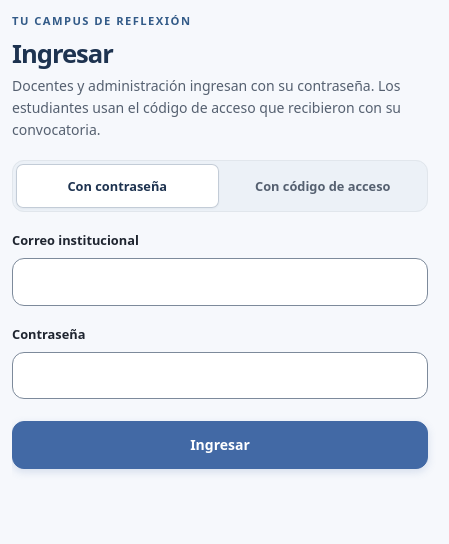
Test: acceso › con la sesión finalizada, el mismo código abre la consulta de resultados
Click the radio button labelled "Con código de acceso": (323, 186) [255, 177, 390, 195]
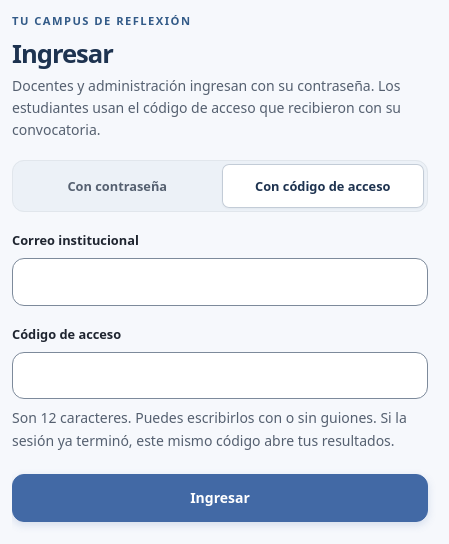
In the field labelled "Correo institucional": (220, 282) [12, 258, 428, 306], type "est@uni.edu.co"
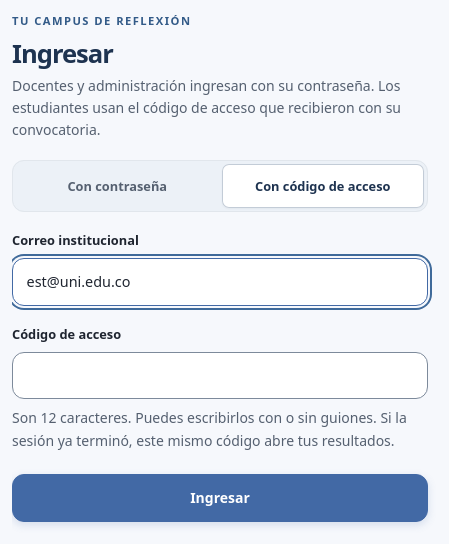
In the field labelled "Código de acceso": (220, 376) [12, 352, 428, 399], type "ABCD-EFGH-JKMN"
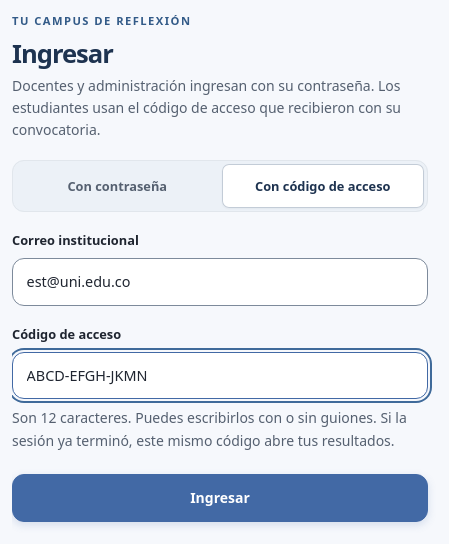
Click the button "Ingresar": (220, 498) [12, 474, 428, 522]
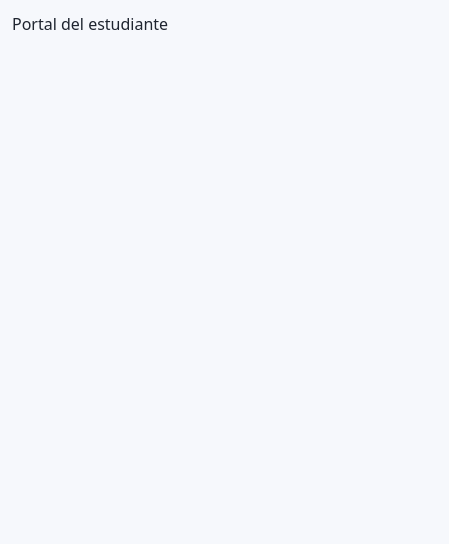
Check: the text "Portal del estudiante" is shown, box [12, 13, 168, 35]
